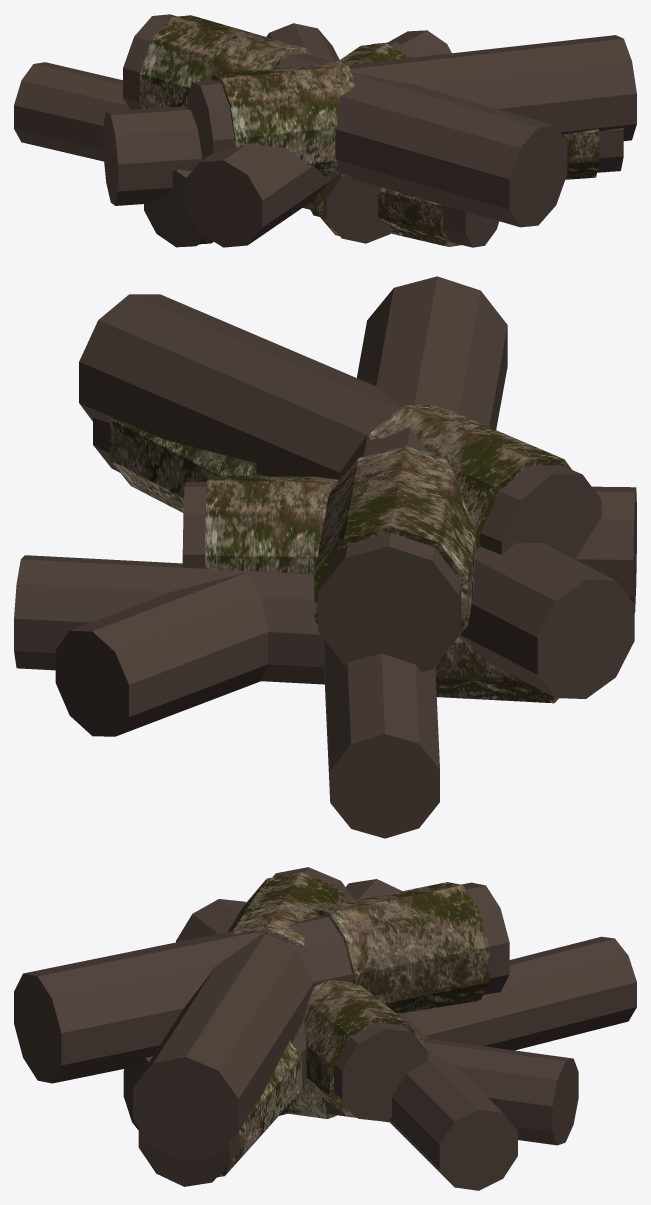
File: camp_firewood.glb
The picture shows the model from 3 angles, top to bottom: view 1: azimuth 30°, elevation 25°; view 2: azimuth 150°, elevation 25°; view 3: azimuth 270°, elevation 25°; orthographic projection. The views are drawn at different scales.
Visible parts, largest first — view 1: Charred irregular log, Remaining bark; view 2: Charred irregular log, Remaining bark; view 3: Charred irregular log, Remaining bark.
Boxes of the visible parts, x1=… form: Charred irregular log: x1=14, y1=14, x2=636, y2=247; Remaining bark: x1=139, y1=15, x2=599, y2=246; Charred irregular log: x1=14, y1=276, x2=636, y2=838; Remaining bark: x1=110, y1=405, x2=571, y2=703; Charred irregular log: x1=14, y1=867, x2=636, y2=1190; Remaining bark: x1=217, y1=872, x2=489, y2=1177.
Size of the model in its own units: 1.05 by 0.364 by 1.18.
2 materials, 1 textured.
